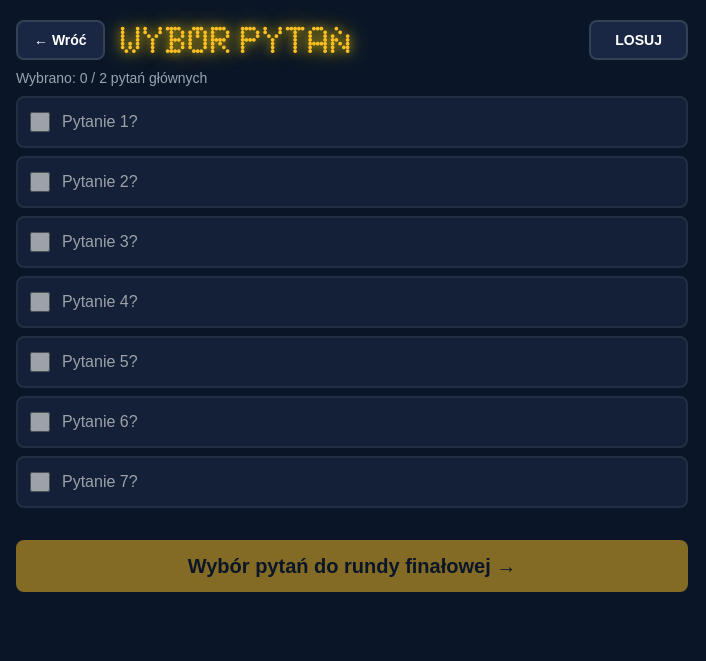
Test: QuestionSelectionScreen › should show LOSUJ button that selects a random set of questions
Click the button "LOSUJ": (639, 40) [589,20,688,60]
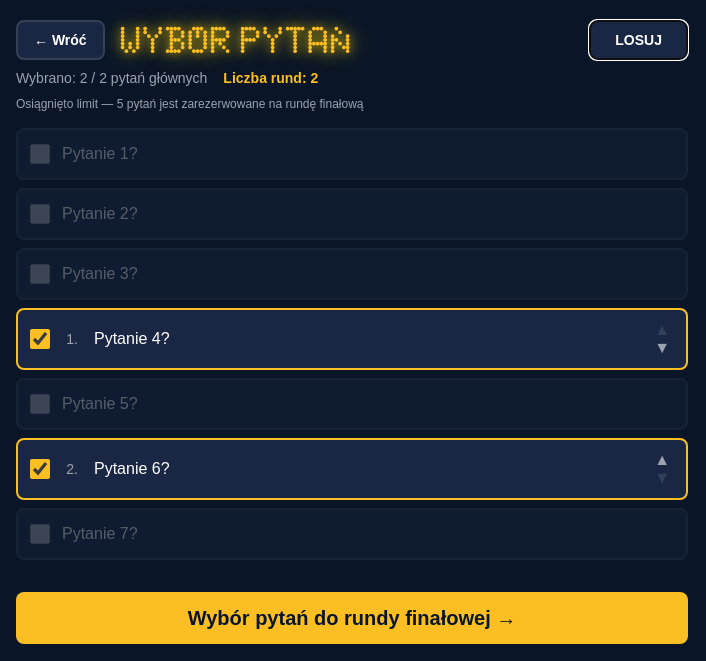
Check: the text "Wybrano: 2 / 2 pytań głównych" is shown, box [16,68,207,88]
Check: the button "Wybór pytań do rundy finałowej →" is enabled, box [16,592,688,644]
